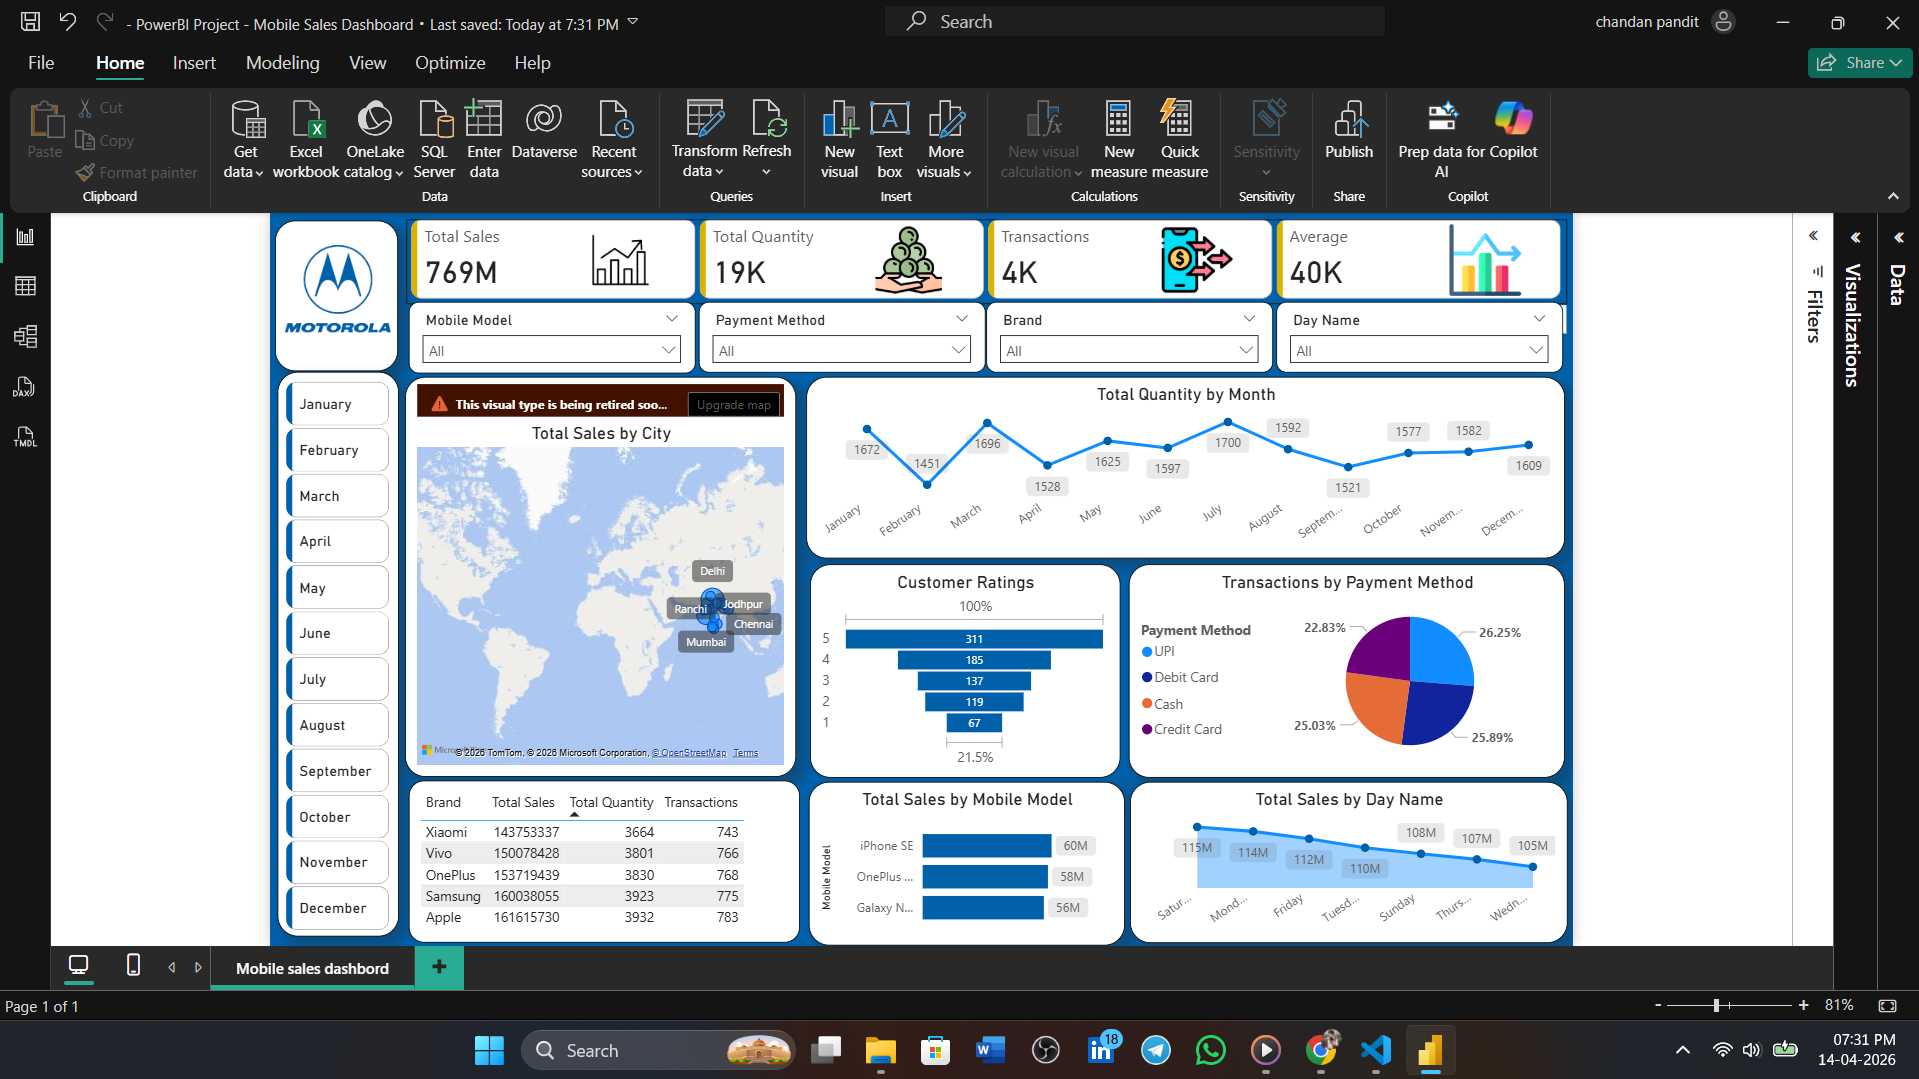

This screenshot's page, from the dashboard's own definition file:
{"tool":"powerbi","page":{"name":"Page 1","canvas":[1280,720],"ordinal":0},"visuals":[{"type":"shape","box":[5.5,6.9,120.8,148.2],"z":0},{"type":"image","box":[9.6,16.5,113.9,116.6],"z":1000},{"type":"shape","box":[6.9,156.4,119.4,554.4],"z":2000},{"type":"advancedSlicerVisual","fields":{"Values":["Sales_Data.Date.Variation.Date Hierarchy.Month"]},"box":[11,160.5,111.1,548.9],"z":3000},{"type":"cardVisual","fields":{"Data":["Sales_Data.Total Sales","Sales_Data.Total Quantity","Sales_Data.Transactions","Sales_Data.Average"]},"box":[134,5.6,1140.1,83.7],"z":4000},{"type":"map","fields":{"Category":["Sales_Data.City"],"Size":["Sales_Data.Total Sales"]},"box":[132.9,160.8,384.1,393.1],"z":5000},{"type":"lineChart","fields":{"Y":["Sales_Data.Total Quantity"],"Category":["Sales_Data.Date.Variation.Date Hierarchy.Month","Sales_Data.Date.Variation.Date Hierarchy.Day"]},"box":[525.9,160.8,744.8,178.7],"z":6000},{"type":"clusteredBarChart","fields":{"Category":["Sales_Data.Mobile Model"],"Y":["Sales_Data.Total Sales"]},"box":[528.3,558.5,310.1,160.5],"z":7000},{"type":"pieChart","fields":{"Category":["Sales_Data.Payment Method"],"Y":["Sales_Data.Transactions"]},"box":[842.5,344.4,428.1,209.9],"z":8000},{"type":"funnel","title":"Customer Ratings","fields":{"Category":["Sales_Data.Customer Ratings"],"Y":["CountNonNull(Sales_Data.Customer Ratings)"]},"box":[529.7,344.4,304.6,209.9],"z":9000},{"type":"areaChart","fields":{"Category":["Sales_Data.Day Name"],"Y":["Sales_Data.Total Sales"]},"box":[844.2,558.3,429.5,158.3],"z":10000},{"type":"tableEx","fields":{"Values":["Sales_Data.Brand","Sales_Data.Total Sales","Sales_Data.Total Quantity","Sales_Data.Transactions"]},"box":[135.8,557.1,384.2,159.2],"z":11000},{"type":"slicer","fields":{"Values":["Sales_Data.Mobile Model"]},"box":[136.2,87.1,281.4,70.3],"z":12000},{"type":"slicer","fields":{"Values":["Sales_Data.Payment Method"]},"box":[421,87.1,281.4,69.2],"z":13000},{"type":"slicer","fields":{"Values":["Sales_Data.Brand"]},"box":[703.5,87.1,281.4,69.2],"z":14000},{"type":"slicer","fields":{"Values":["Sales_Data.Day Name"]},"box":[988.2,87.1,281.4,69.2],"z":15000}]}

Visuals, with their boxes on the page's 1280x720 design canvas (x1, y1, x2, y2). These are canvas units, not pixel positions in the 1919x1079 screenshot, which may show the page scaled, cropped or inside an application window:
shape: 6 7 126 155
image: 10 16 124 133
shape: 7 156 126 711
advancedSlicerVisual - Sales_Data.Date.Variation.Date Hierarchy.Month: 11 160 122 709
cardVisual - Sales_Data.Total Sales x Sales_Data.Total Quantity: 134 6 1274 89
map - Sales_Data.City x Sales_Data.Total Sales: 133 161 517 554
lineChart - Sales_Data.Total Quantity x Sales_Data.Date.Variation.Date Hierarchy.Month: 526 161 1271 340
clusteredBarChart - Sales_Data.Mobile Model x Sales_Data.Total Sales: 528 558 838 719
pieChart - Sales_Data.Payment Method x Sales_Data.Transactions: 842 344 1271 554
"Customer Ratings" funnel: 530 344 834 554
areaChart - Sales_Data.Day Name x Sales_Data.Total Sales: 844 558 1274 717
tableEx - Sales_Data.Brand x Sales_Data.Total Sales: 136 557 520 716
slicer - Sales_Data.Mobile Model: 136 87 418 157
slicer - Sales_Data.Payment Method: 421 87 702 156
slicer - Sales_Data.Brand: 704 87 985 156
slicer - Sales_Data.Day Name: 988 87 1270 156
